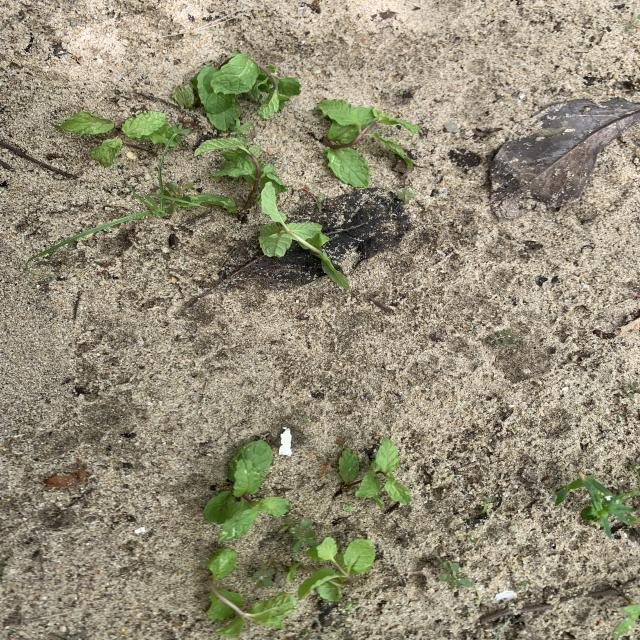crop: (173, 52, 299, 130), (318, 99, 419, 186), (206, 440, 290, 539), (207, 547, 295, 637), (211, 141, 288, 221), (259, 222, 349, 287), (338, 439, 410, 509), (297, 537, 375, 600), (120, 111, 177, 144), (54, 111, 116, 135), (91, 135, 122, 166)
weed: (29, 147, 196, 259), (578, 475, 639, 537), (286, 518, 315, 551), (439, 562, 474, 587), (612, 604, 639, 636), (252, 562, 275, 587), (307, 187, 326, 208), (491, 330, 515, 343), (397, 187, 415, 203), (623, 382, 639, 397), (343, 505, 354, 511), (346, 603, 354, 610)
